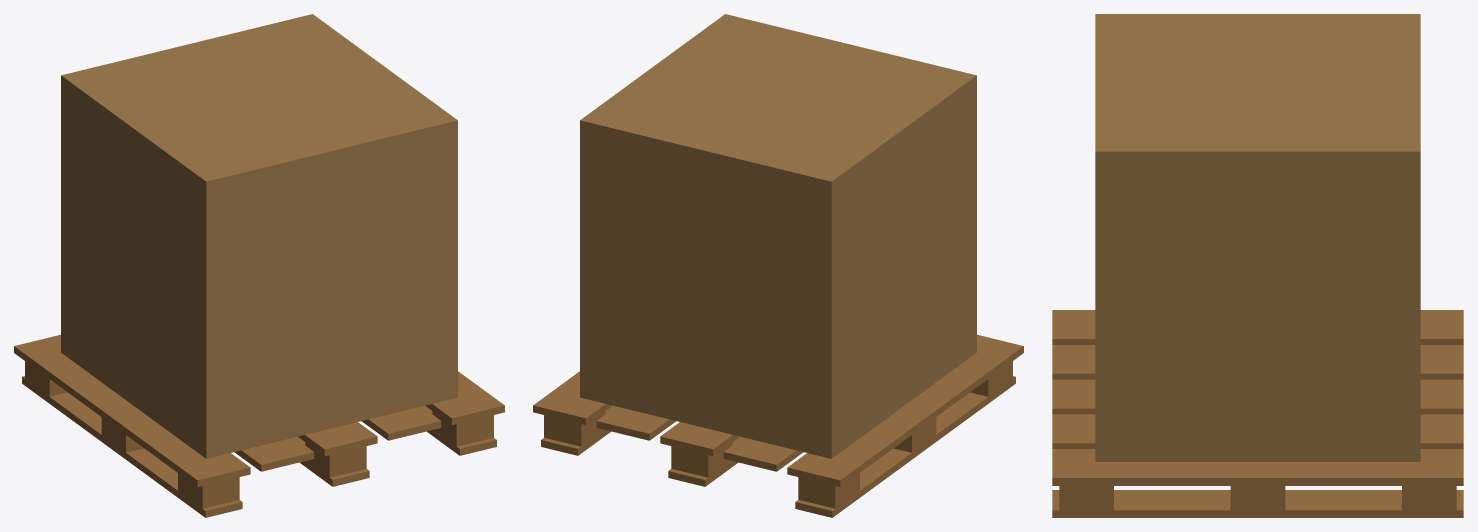
File: pallet-box.glb
The picture shows the model from 3 angles, left to right: view 1: azimuth 30°, elevation 25°; view 2: azimuth 150°, elevation 25°; view 3: azimuth 270°, elevation 25°; orthographic projection. The views are drawn at different scales.
Visible parts, largest first — view 1: object 18, mesh_0, mesh_5, mesh_4, mesh_1, mesh_3, mesh_2, mesh_8, mesh_12, mesh_16, mesh_9, mesh_13 (+2 smaller); view 2: object 18, mesh_0, mesh_5, mesh_4, mesh_1, mesh_3, mesh_2, mesh_6, mesh_10, mesh_14, mesh_9, mesh_13 (+2 smaller); view 3: object 18, mesh_4, mesh_13, mesh_2, mesh_0, mesh_1, mesh_3, mesh_15, mesh_14, mesh_16.
Part boxes in pixels (bbox=[...]): object 18: bbox=[61, 14, 457, 458]; mesh_0: bbox=[14, 334, 250, 487]; mesh_5: bbox=[22, 376, 242, 517]; mesh_4: bbox=[425, 371, 504, 425]; mesh_1: bbox=[234, 437, 314, 471]; mesh_3: bbox=[361, 406, 441, 440]; mesh_2: bbox=[298, 422, 377, 455]; mesh_8: bbox=[178, 473, 239, 508]; mesh_12: bbox=[305, 442, 366, 477]; mesh_16: bbox=[432, 411, 493, 446]; mesh_9: bbox=[294, 436, 369, 486]; mesh_13: bbox=[422, 405, 496, 455]; object 18: bbox=[580, 14, 976, 458]; mesh_0: bbox=[787, 334, 1023, 487]; mesh_5: bbox=[795, 376, 1015, 517]; mesh_4: bbox=[533, 371, 612, 425]; mesh_1: bbox=[723, 437, 803, 471]; mesh_3: bbox=[596, 406, 676, 440]; mesh_2: bbox=[660, 422, 739, 455]; mesh_6: bbox=[798, 473, 859, 508]; mesh_10: bbox=[671, 442, 732, 477]; mesh_14: bbox=[544, 411, 605, 446]; mesh_9: bbox=[668, 436, 743, 486]; mesh_13: bbox=[541, 405, 615, 455]; object 18: bbox=[1095, 14, 1420, 461]; mesh_4: bbox=[1052, 449, 1463, 485]; mesh_13: bbox=[1052, 490, 1463, 517]; mesh_2: bbox=[1052, 379, 1463, 414]; mesh_0: bbox=[1052, 310, 1463, 344]; mesh_1: bbox=[1052, 345, 1463, 379]; mesh_3: bbox=[1052, 414, 1463, 448]; mesh_15: bbox=[1230, 486, 1285, 510]; mesh_14: bbox=[1402, 486, 1456, 510]; mesh_16: bbox=[1059, 486, 1113, 510].
Bounding box in the file's own units: 1.16 × 1.15 × 1.2.
